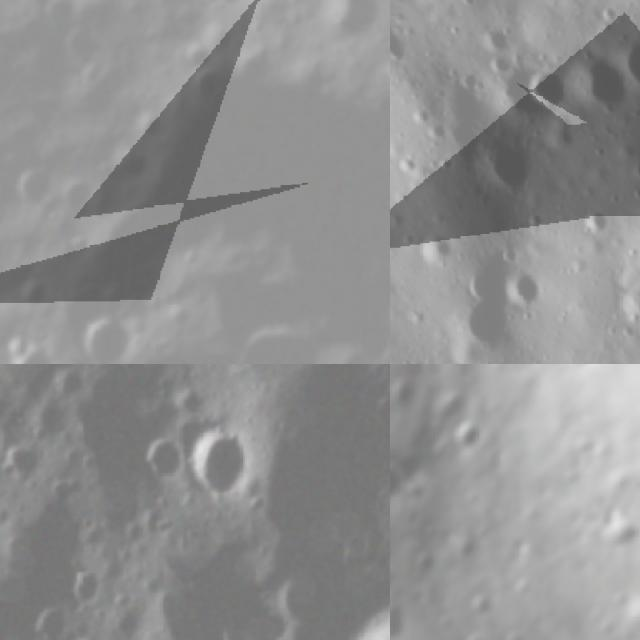crater: (453, 284, 533, 364), (181, 424, 255, 506), (564, 48, 638, 124), (476, 134, 542, 202), (518, 60, 583, 125), (500, 267, 558, 329), (408, 220, 465, 276), (78, 314, 141, 364), (602, 29, 640, 110), (134, 434, 188, 486), (446, 412, 496, 459), (66, 567, 113, 613), (2, 440, 45, 488), (34, 606, 75, 640), (390, 452, 413, 508), (390, 589, 415, 640), (0, 342, 53, 364), (409, 548, 444, 580), (619, 284, 640, 335), (620, 589, 640, 640), (212, 0, 250, 10)
